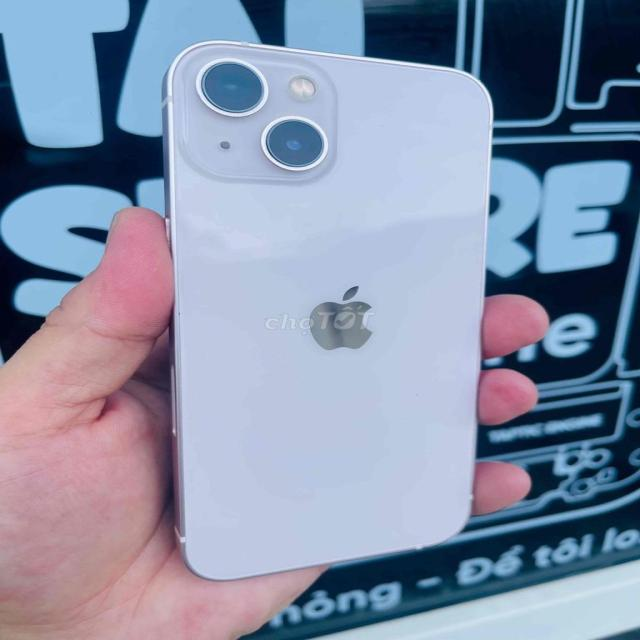gen_12_13: (153, 43, 491, 581)
